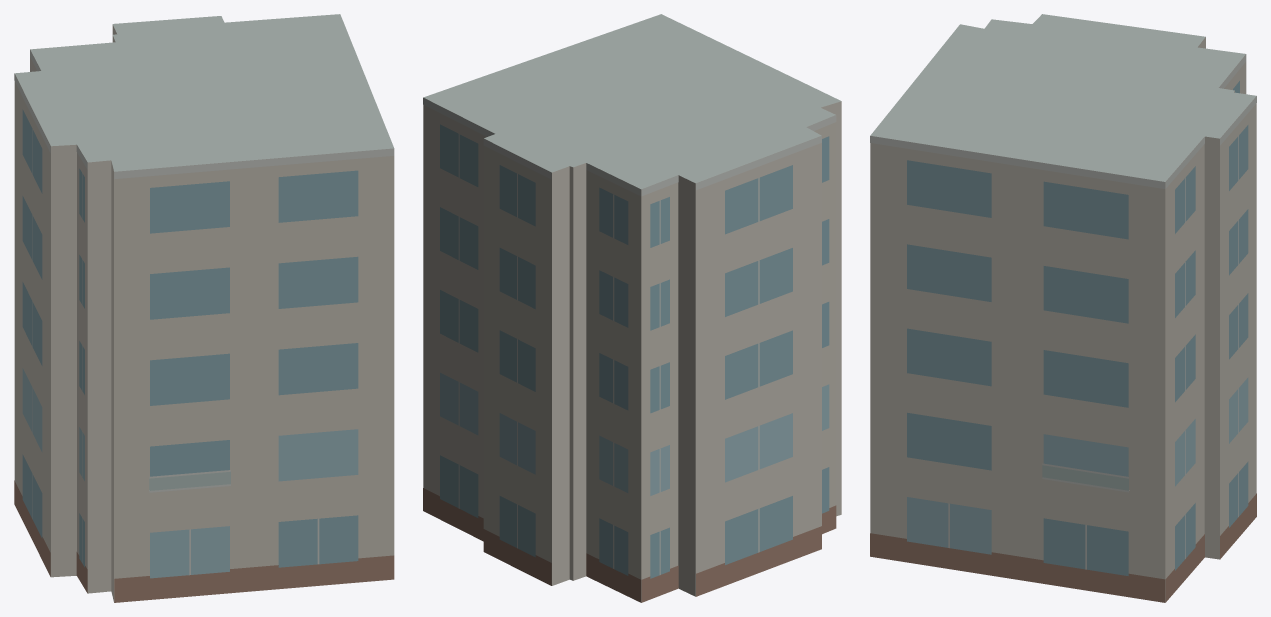
The model's file is survey-upis-32772614.glb.
3 views of the same model, side by side, from view 1: azimuth 30°, elevation 25°; view 2: azimuth 150°, elevation 25°; view 3: azimuth 270°, elevation 25° (orthographic). The views are drawn at different scales.
Parts seen in each view (by area): view 1: survey-upis-32772614.tmp; view 2: survey-upis-32772614.tmp; view 3: survey-upis-32772614.tmp.
Boxes of the visible parts, bbox=[...] form: survey-upis-32772614.tmp: bbox=[14, 14, 394, 602]; survey-upis-32772614.tmp: bbox=[423, 14, 841, 602]; survey-upis-32772614.tmp: bbox=[870, 14, 1256, 602].
Size of the model in its own units: 12.16 by 14.2 by 11.83.
